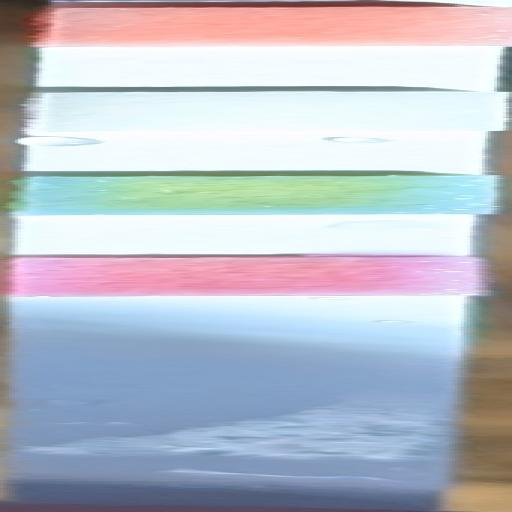pads: (0, 86, 512, 133), (0, 252, 512, 297), (0, 171, 512, 215), (39, 1, 512, 47)
